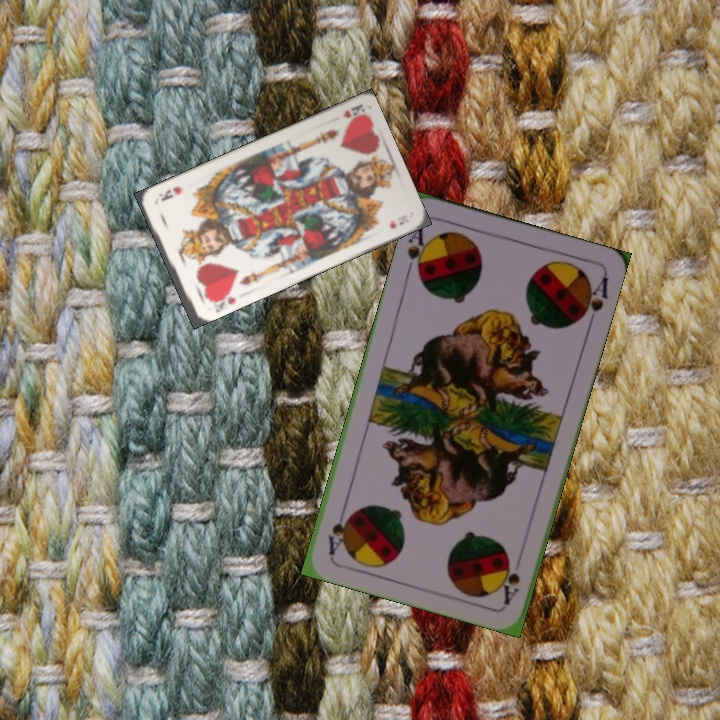HK: (205, 286, 238, 314), (339, 101, 363, 121)
SA: (402, 219, 433, 279), (498, 554, 523, 607)
